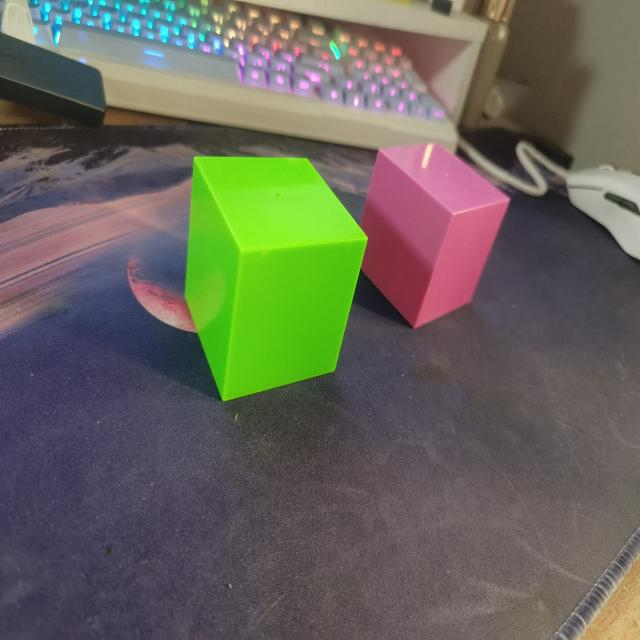green: (177, 145, 373, 419)
pink: (360, 132, 515, 342)
